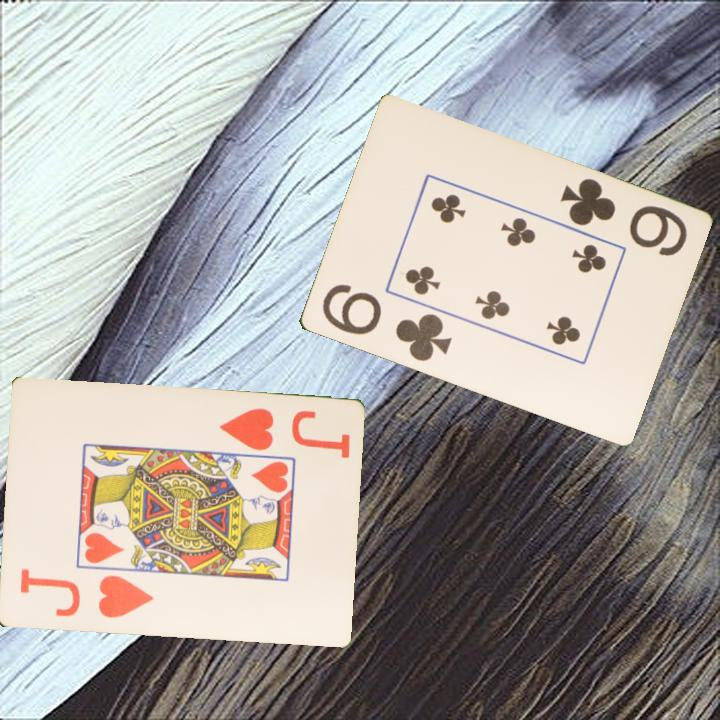6c: (318, 280, 454, 365), (556, 175, 690, 260)
Jh: (16, 566, 156, 621), (215, 405, 277, 454)
